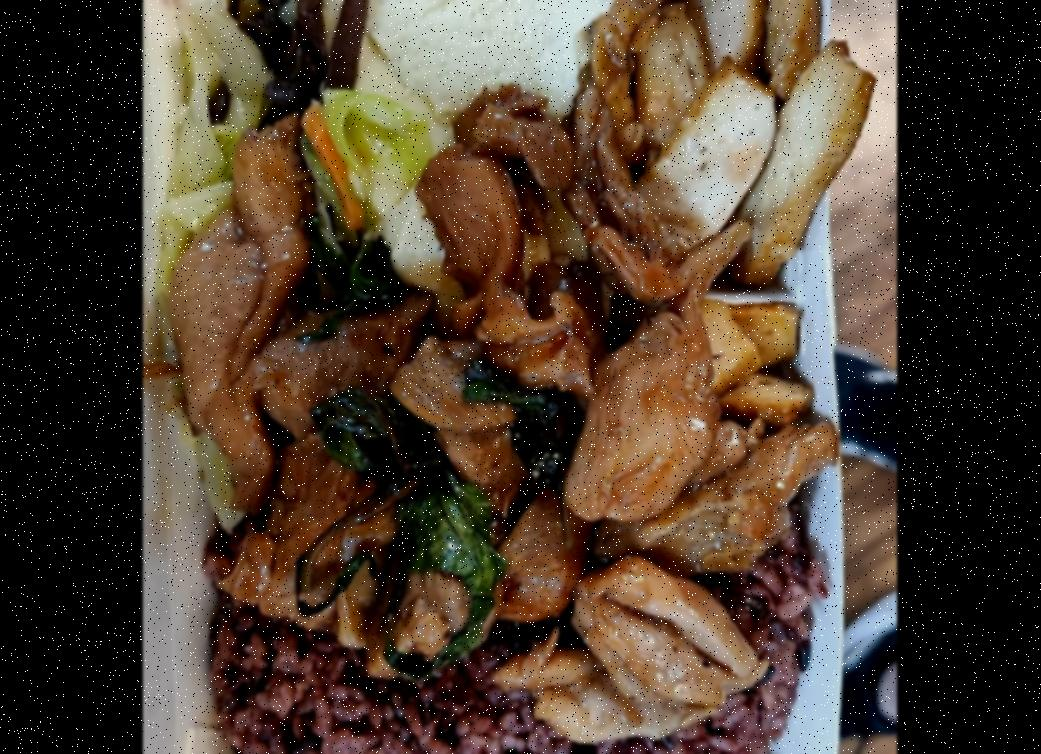box: (165, 0, 856, 754)
purple rice: (193, 488, 813, 754)
side dish: (584, 0, 859, 270), (339, 0, 583, 236), (174, 0, 366, 224)
three cup chicken: (180, 120, 817, 736)
